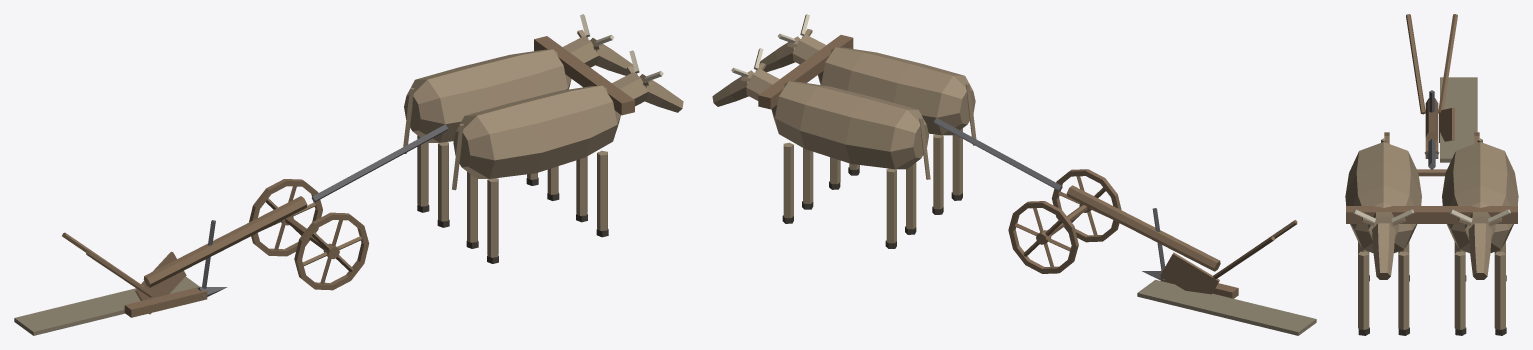
File: plough.glb
3 renders of one model, left to right at view 1: azimuth 30°, elevation 25°; view 2: azimuth 150°, elevation 25°; view 3: azimuth 270°, elevation 25°, orthographic. The views are drawn at different scales.
Parts seen in each view (by area): view 1: plough; view 2: plough; view 3: plough.
Part boxes in pixels (box(x1,y1,x2,y2)): plough: box(14, 14, 683, 335); plough: box(712, 14, 1316, 335); plough: box(1345, 14, 1518, 335).
Size of the model in its own units: 6.51 by 1.62 by 1.61.
